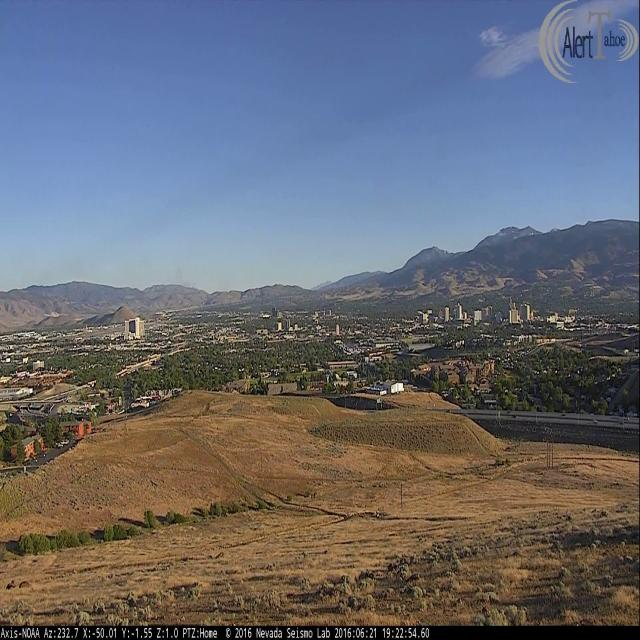smoke: (168, 266, 199, 289)
